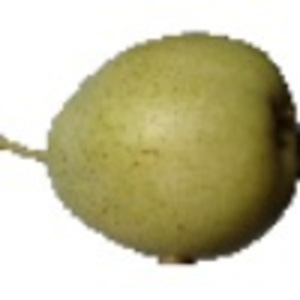pera: (1, 31, 300, 269)
